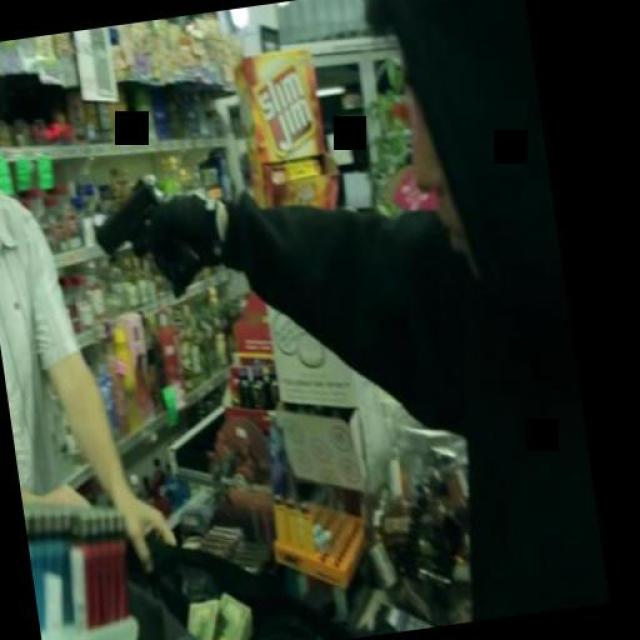gun: (88, 171, 208, 300)
